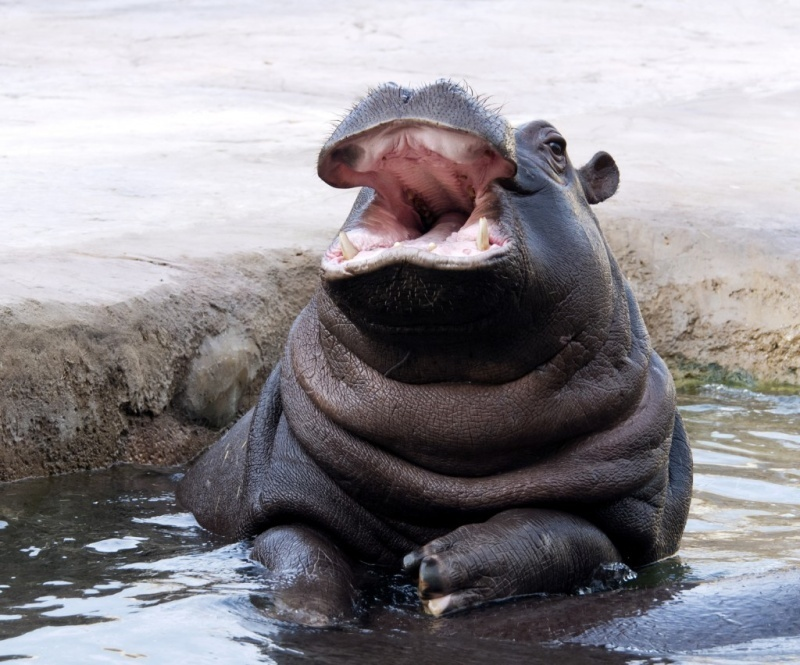hipopotamo: (192, 66, 704, 643)
